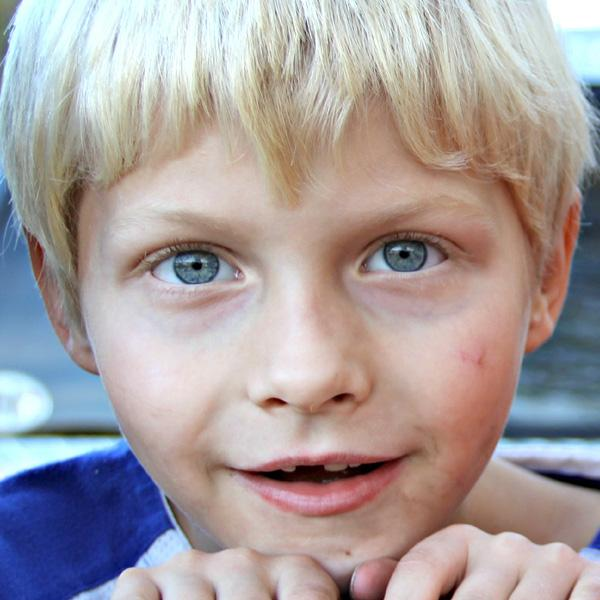Eyes: (122, 233, 262, 302), (346, 221, 471, 291)
